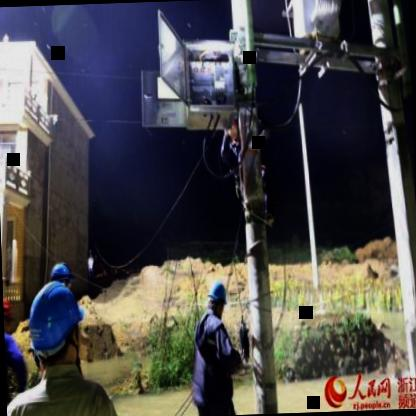helmet: (32, 276, 84, 375), (207, 275, 228, 318), (52, 260, 76, 294), (3, 294, 14, 337)
